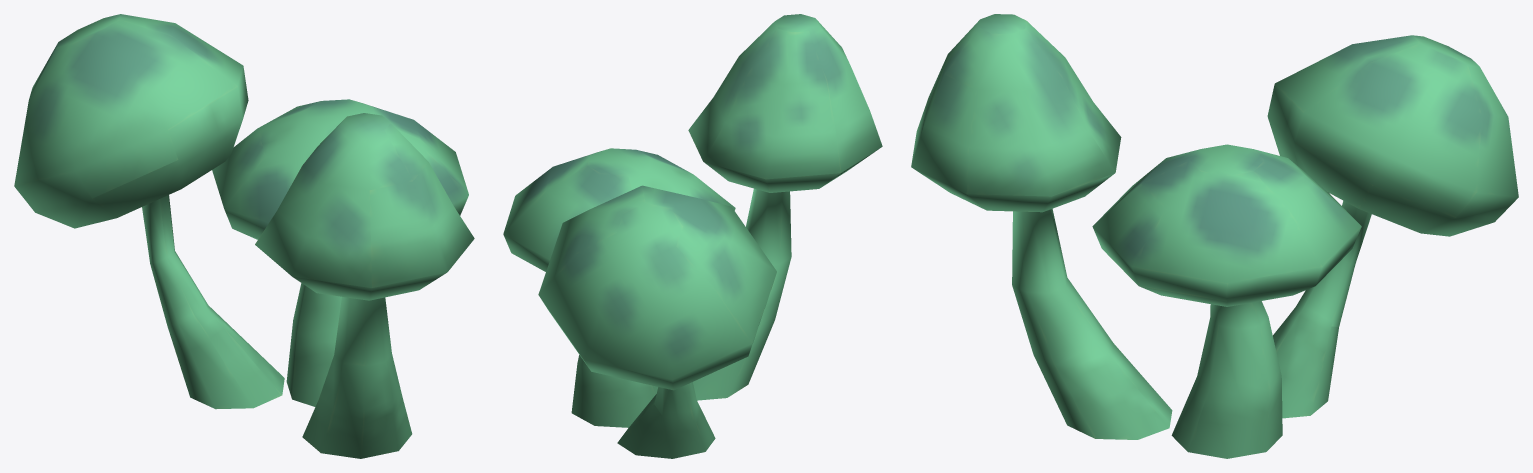
File: CogumeloEmissivo2.fbx
3 views of the same model, side by side, from view 1: azimuth 30°, elevation 25°; view 2: azimuth 150°, elevation 25°; view 3: azimuth 270°, elevation 25° (orthographic). The views are drawn at different scales.
Parts seen in each view (by area): view 1: Cogumelo Emissivo 2; view 2: Cogumelo Emissivo 2; view 3: Cogumelo Emissivo 2.
Boxes of the visible parts, x1,y1,x2,y2 form: Cogumelo Emissivo 2: (14,14,474,458); Cogumelo Emissivo 2: (503,14,882,458); Cogumelo Emissivo 2: (911,14,1518,458).
Bounding box in the file's own units: 67.26 × 66.83 × 99.66.
